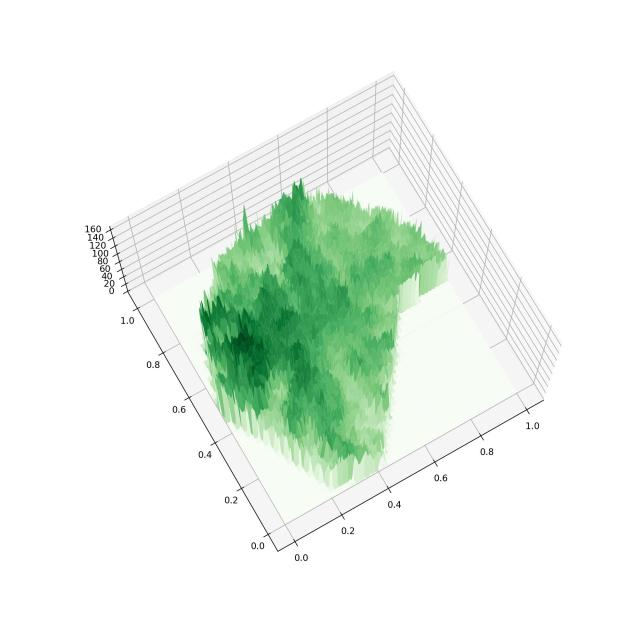spruce: (76, 40, 582, 577)
